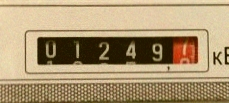0: (43, 38, 57, 58)
1: (70, 38, 82, 59)
2: (95, 38, 111, 60)
4: (124, 38, 137, 58)
7: (178, 35, 191, 55)
9: (150, 40, 163, 61)
screen: (21, 24, 212, 75)
